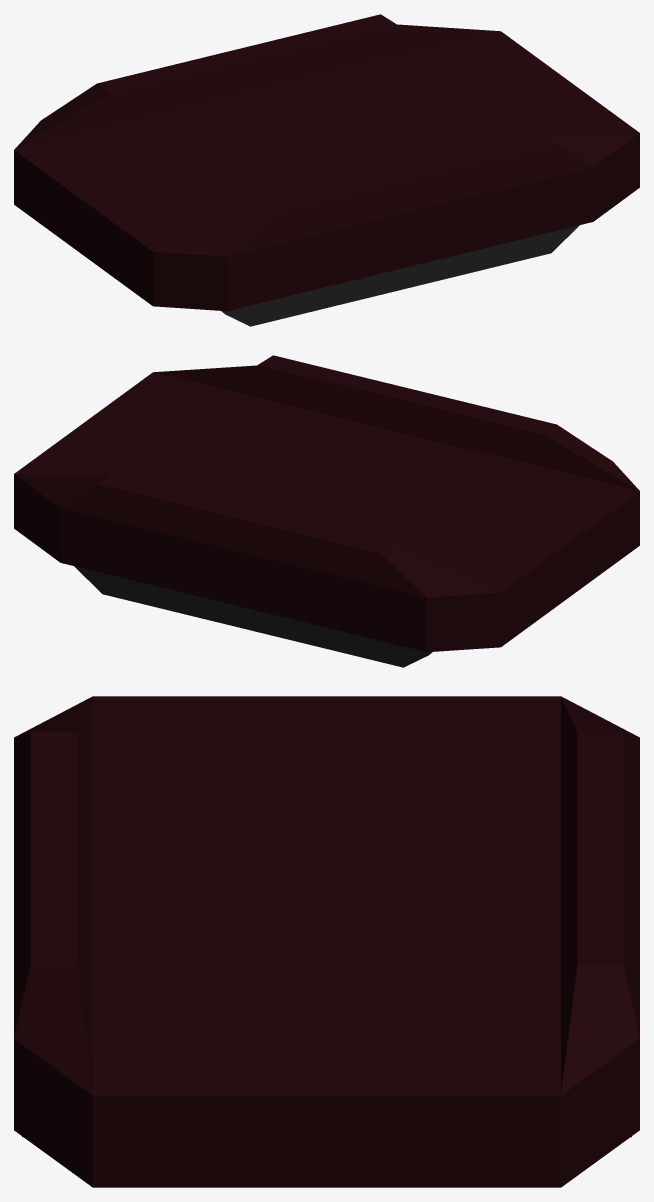
File: enemybodyfbx.fbx
3 views of the same model, one above another, from view 1: azimuth 30°, elevation 25°; view 2: azimuth 150°, elevation 25°; view 3: azimuth 270°, elevation 25° (orthographic). The views are drawn at different scales.
Parts seen in each view (by area): view 1: Cube_001; view 2: Cube_001; view 3: Cube_001.
Boxes of the visible parts, x1,y1,x2,y2 form: Cube_001: (14, 14, 639, 326); Cube_001: (14, 355, 639, 667); Cube_001: (14, 696, 639, 1187).
Size of the model in its own units: 5 by 1.04 by 3.31.
